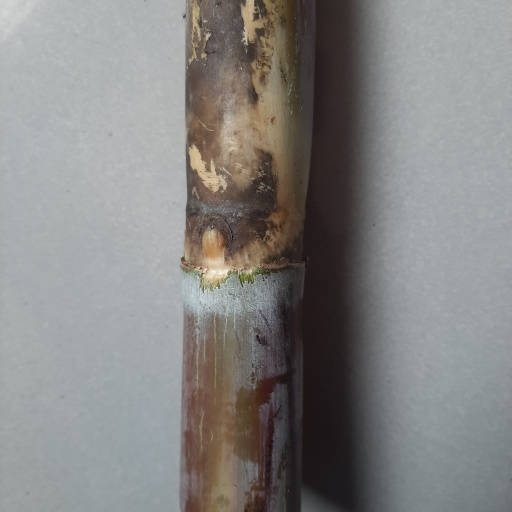Bud: (199, 224, 226, 259)
